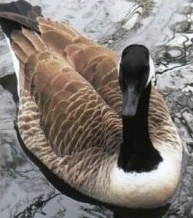goose: (1, 1, 186, 206)
